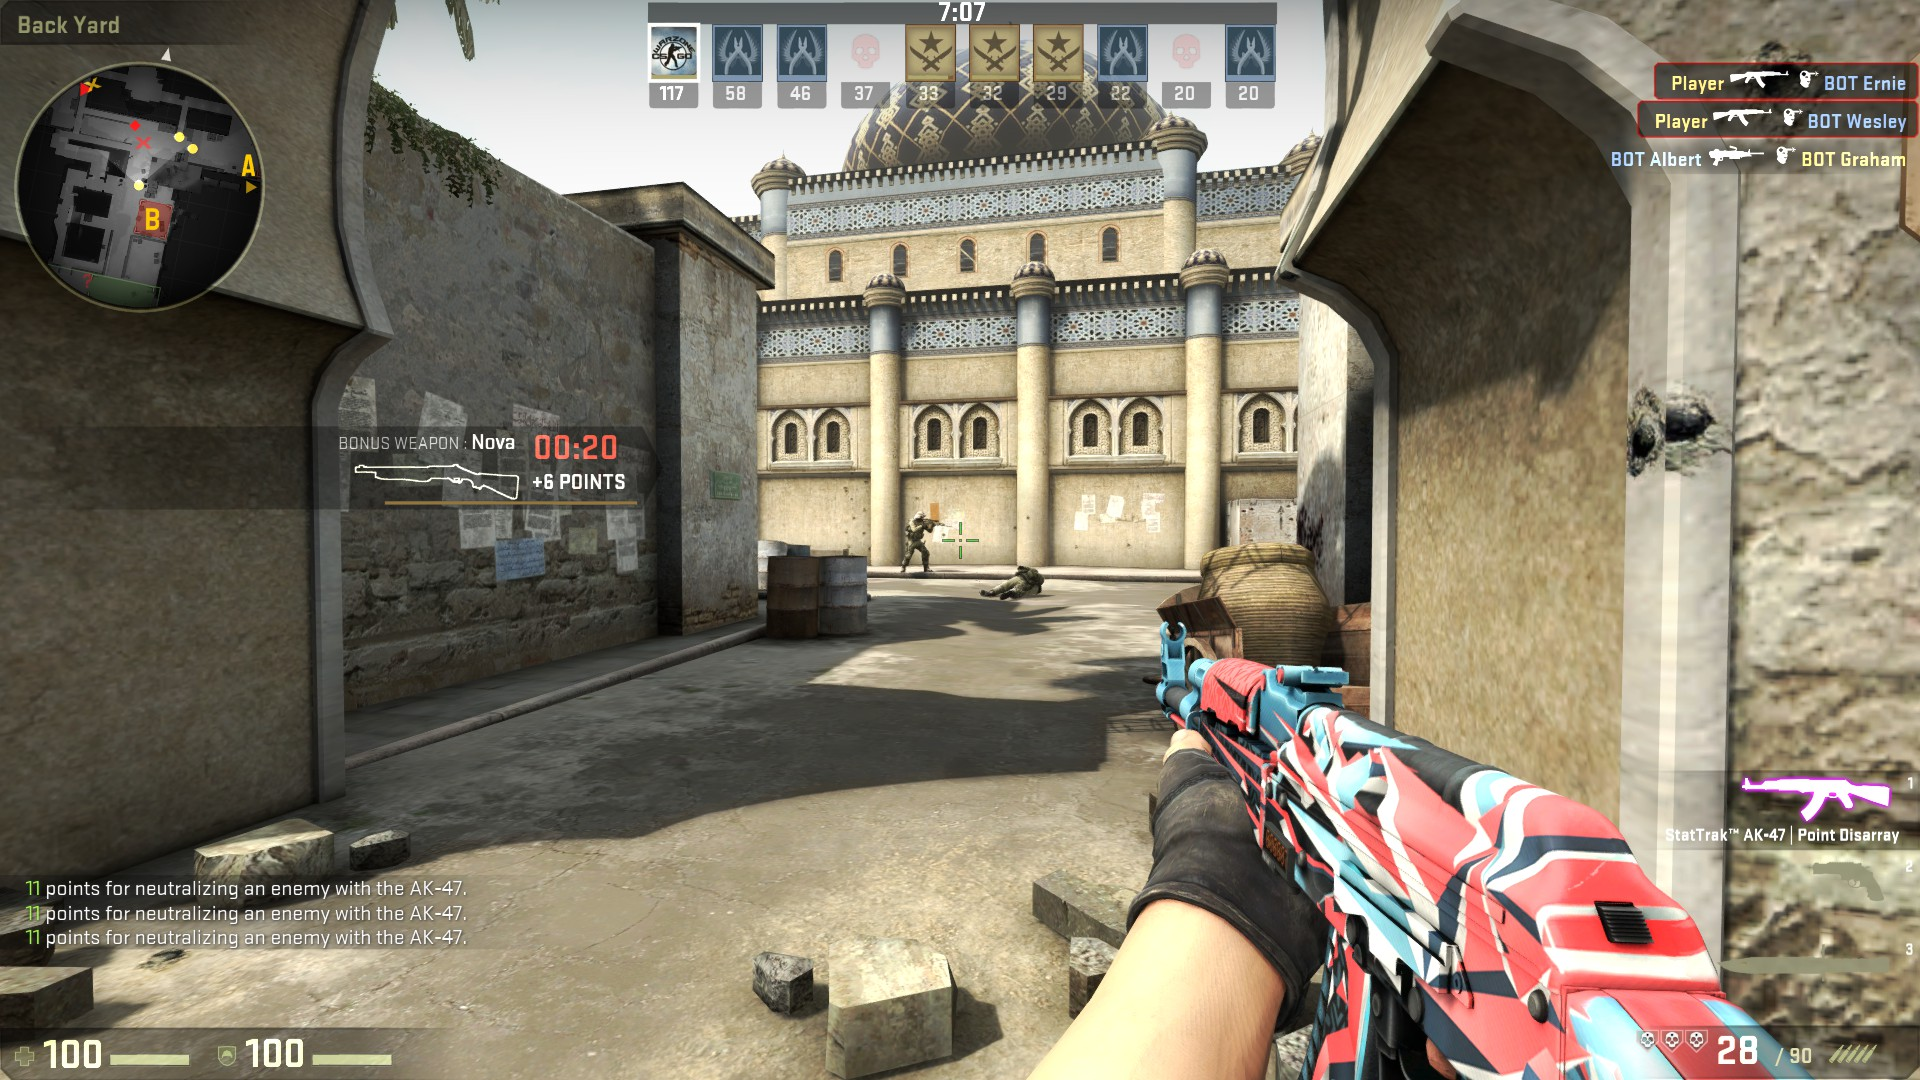c: (899, 512, 934, 574)
ch: (914, 512, 927, 522)
